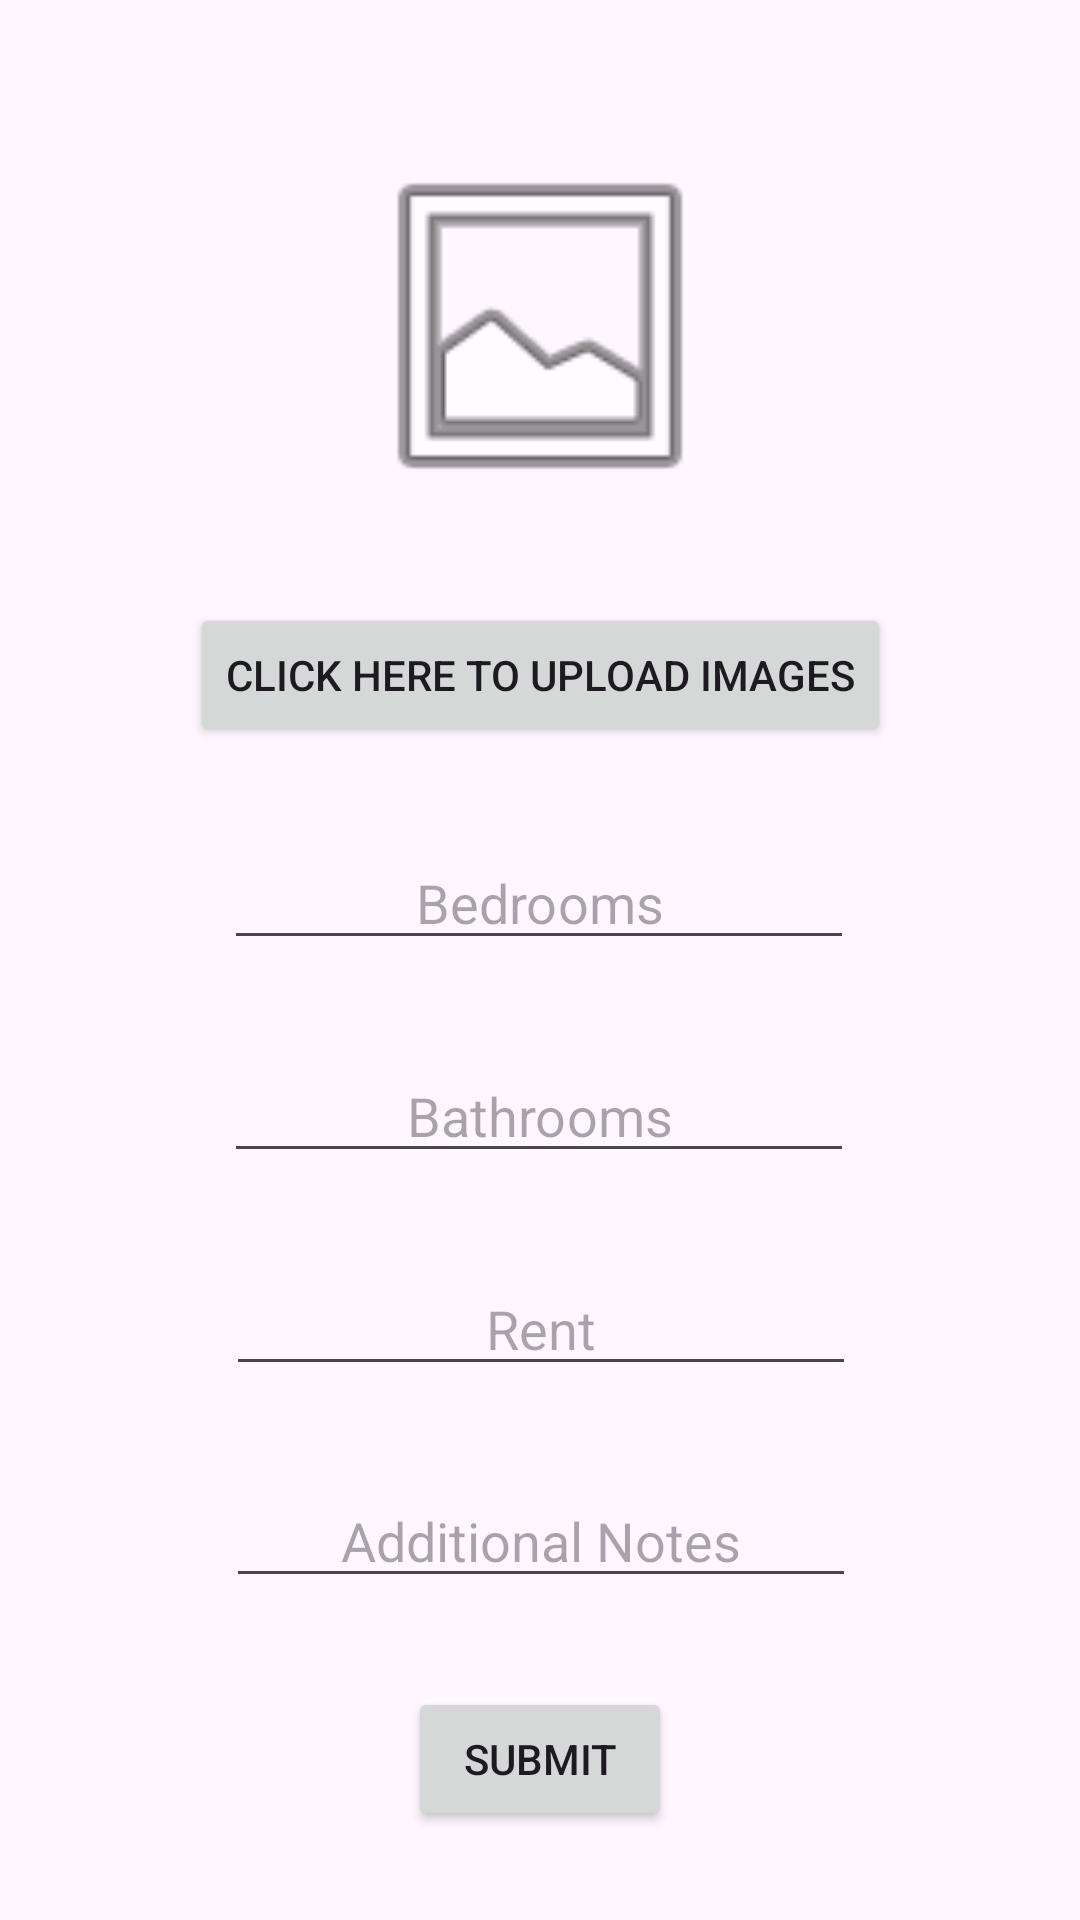

Locate icon controls on the screen. Image size 1080 x 1920, boxes as bbox=(x1, y1, x2, y2).
gallery: bbox=(397, 183, 683, 469)
